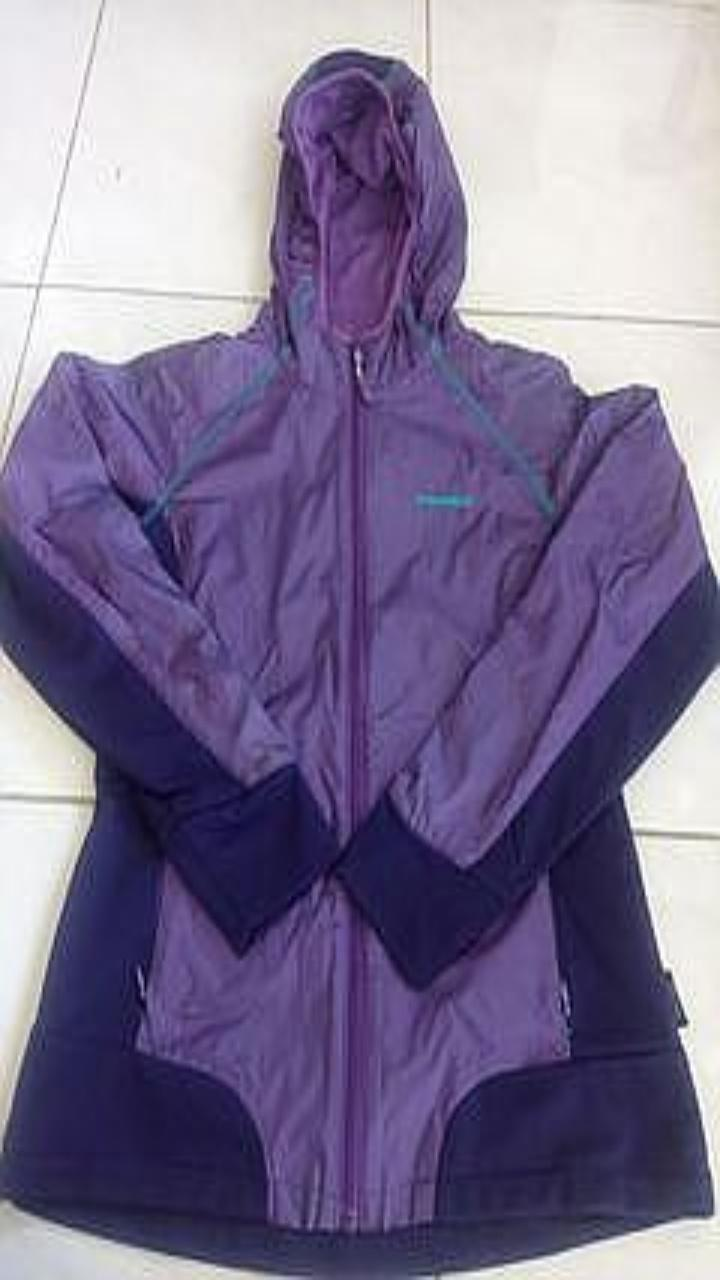Sports_Jacket: (0, 48, 719, 1275)
